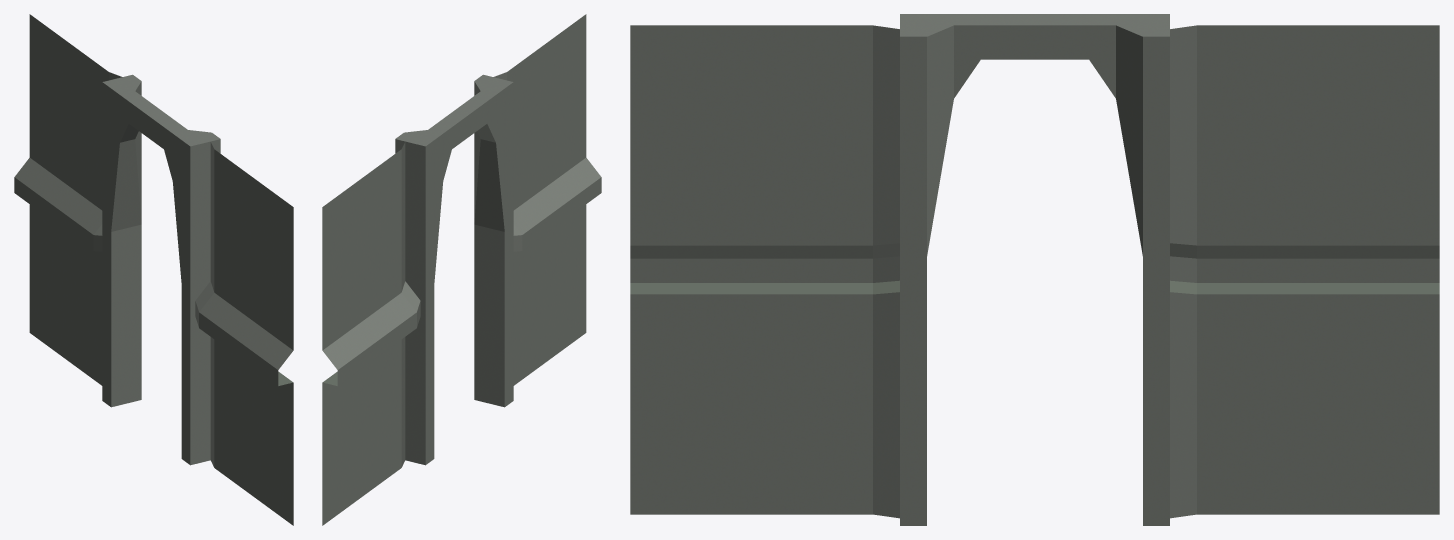
The model's file is Doorway.fbx.
3 views of the same model, side by side, from view 1: azimuth 30°, elevation 25°; view 2: azimuth 150°, elevation 25°; view 3: azimuth 270°, elevation 25° (orthographic). The views are drawn at different scales.
Visible parts, largest first — view 1: Doorway; view 2: Doorway; view 3: Doorway.
Boxes of the visible parts, x1,y1,x2,y2 form: Doorway: (14, 14, 293, 525); Doorway: (322, 14, 601, 525); Doorway: (630, 14, 1439, 525).
Size of the model in its own units: 200 by 2000 by 3000.
